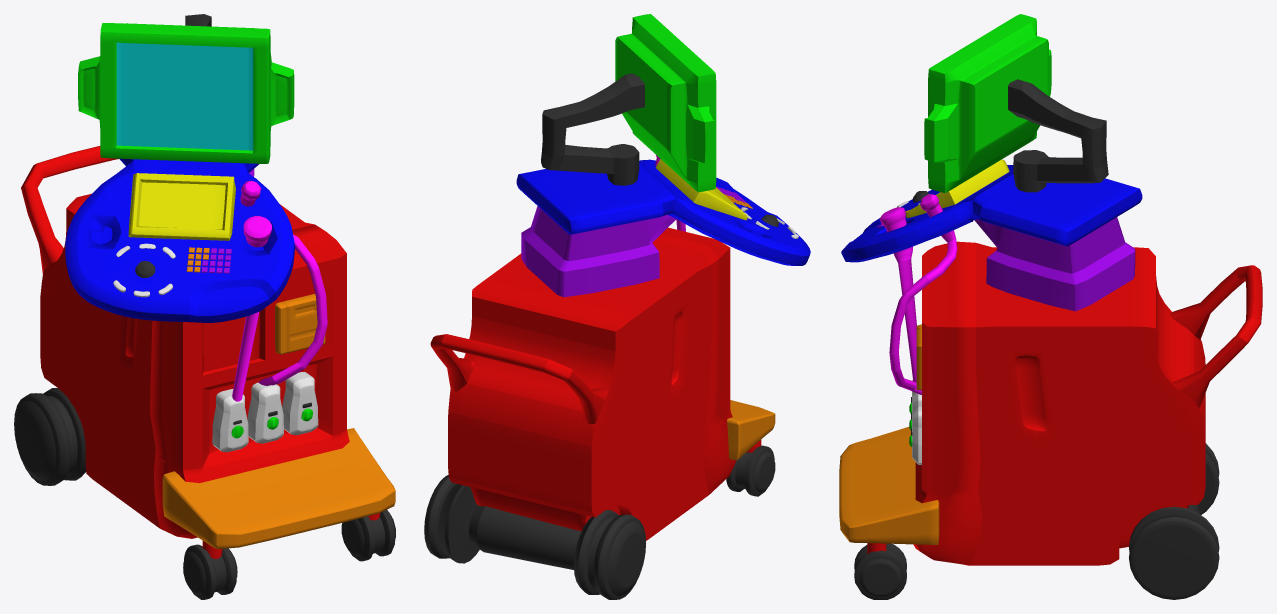
Rendered from ultrasound_machine.fbx.
3 renders of one model, left to right at view 1: azimuth 30°, elevation 25°; view 2: azimuth 150°, elevation 25°; view 3: azimuth 270°, elevation 25°, orthographic. The views are drawn at different scales.
Visible parts, largest first — view 1: polySurface412, polySurface407, polySurface409, polySurface414, polySurface413, polySurface477, polySurface475, polySurface480, polySurface464, polySurface478, polySurface472, polySurface476 (+2 smaller); view 2: polySurface412, polySurface477, polySurface409, polySurface407, polySurface411, polySurface408, polySurface414, polySurface480, polySurface413; view 3: polySurface412, polySurface407, polySurface409, polySurface411, polySurface414, polySurface477, polySurface408, polySurface478, polySurface475, polySurface476, polySurface413.
Part boxes in pixels (box(x1,y1,x2,y2)): polySurface412: box(21, 146, 349, 538); polySurface407: box(78, 23, 294, 163); polySurface409: box(65, 158, 295, 322); polySurface414: box(162, 428, 395, 549); polySurface413: box(128, 173, 235, 240); polySurface477: box(14, 388, 86, 485); polySurface475: box(240, 180, 327, 385); polySurface480: box(183, 544, 237, 599); polySurface464: box(275, 294, 325, 354); polySurface478: box(341, 510, 395, 561); polySurface472: box(282, 372, 318, 435); polySurface476: box(232, 216, 271, 401); polySurface412: box(430, 227, 735, 540); polySurface477: box(424, 475, 645, 599); polySurface409: box(516, 159, 810, 265); polySurface407: box(615, 14, 716, 192); polySurface411: box(521, 206, 676, 297); polySurface408: box(541, 73, 644, 185); polySurface414: box(727, 400, 775, 460); polySurface480: box(726, 445, 775, 496); polySurface413: box(656, 159, 747, 220); polySurface412: box(913, 241, 1262, 565); polySurface407: box(924, 14, 1051, 192); polySurface409: box(841, 165, 1142, 262); polySurface411: box(974, 217, 1135, 311); polySurface414: box(839, 427, 939, 544); polySurface477: box(1129, 443, 1219, 599); polySurface408: box(1008, 79, 1108, 192); polySurface478: box(854, 543, 906, 599); polySurface475: box(889, 194, 957, 394); polySurface476: box(879, 207, 916, 382); polySurface413: box(906, 159, 1009, 218).
Bounding box in the file's own units: 85.23 × 150 × 117.
